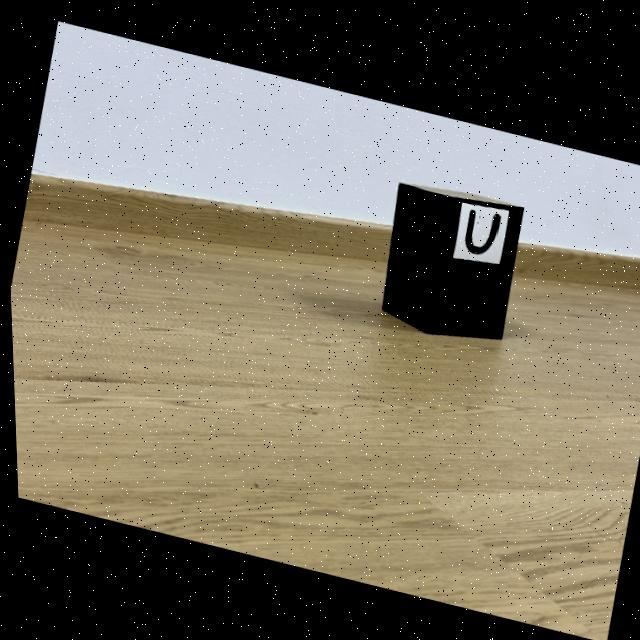U: (463, 206, 498, 251)
